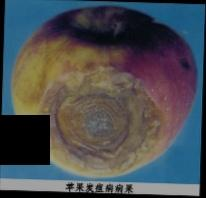rotten apple: (10, 6, 199, 180)
